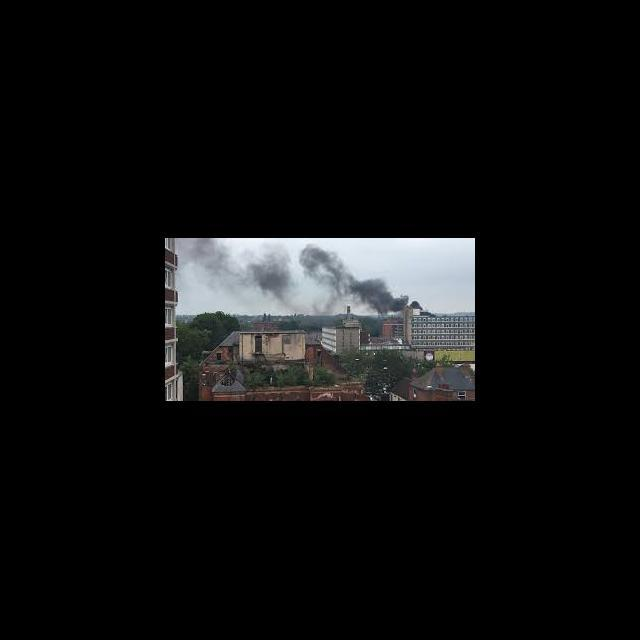Smoke: (300, 243, 407, 316), (183, 240, 294, 308)
